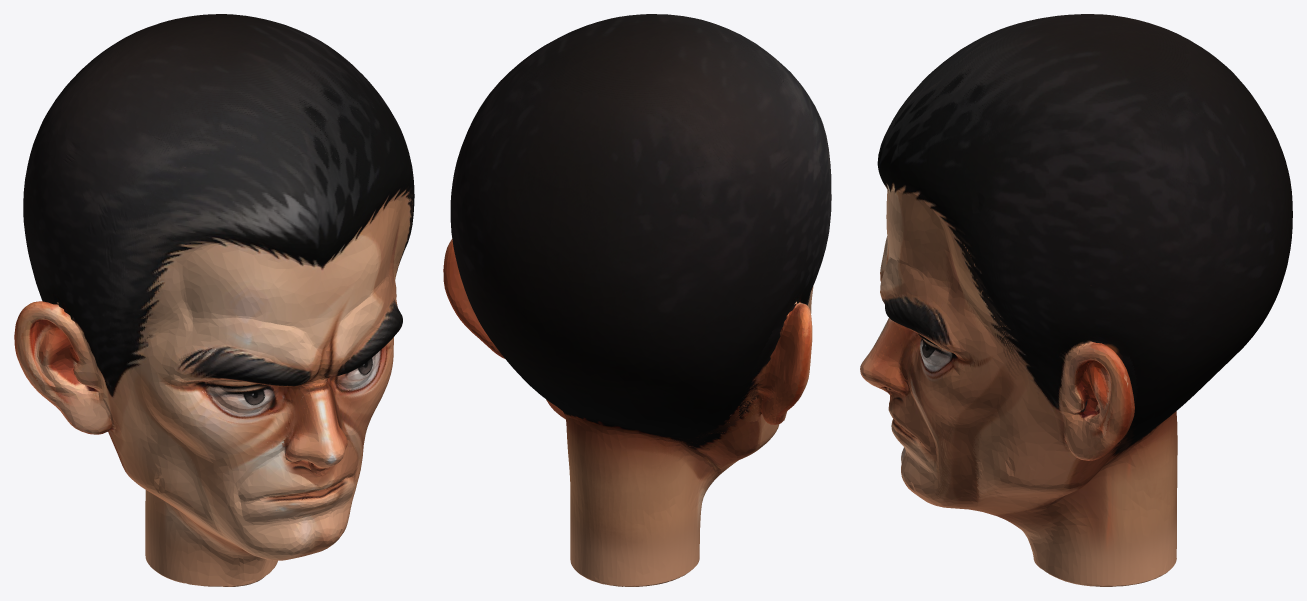
The model's file is side_tadayasu_repaired_atlas.glb.
The picture shows the model from 3 angles, left to right: view 1: azimuth 30°, elevation 25°; view 2: azimuth 150°, elevation 25°; view 3: azimuth 270°, elevation 25°; orthographic projection. The views are drawn at different scales.
Parts seen in each view (by area): view 1: temp_mesh.ply; view 2: temp_mesh.ply; view 3: temp_mesh.ply.
Part boxes in pixels (x1,y1,x2,y2): temp_mesh.ply: (14,14,414,586); temp_mesh.ply: (443,14,831,586); temp_mesh.ply: (860,14,1292,586).
Bounding box in the file's own units: 1.46 × 1.97 × 1.47.
Materials: 1 (1 with a texture image).
